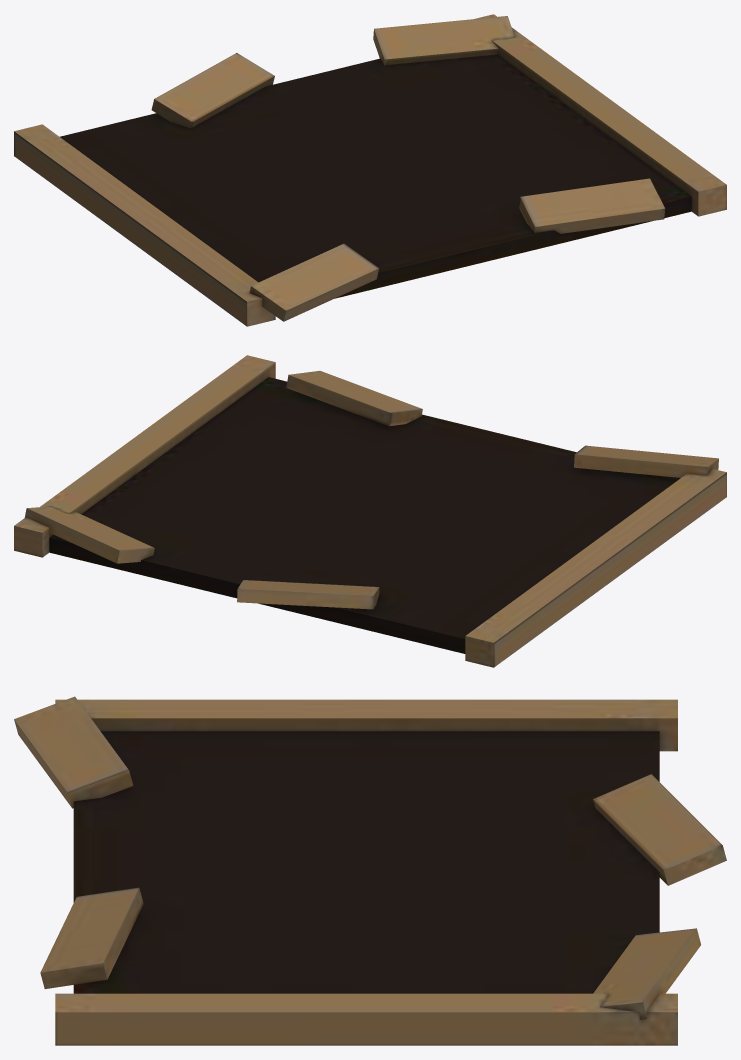
The model's file is tablones_rotos.glb.
The picture shows the model from 3 angles, top to bottom: view 1: azimuth 30°, elevation 25°; view 2: azimuth 150°, elevation 25°; view 3: azimuth 270°, elevation 25°; orthographic projection. The views are drawn at different scales.
Visible parts, largest first — view 1: tablones_rotos; view 2: tablones_rotos; view 3: tablones_rotos.
Boxes of the visible parts, <box> form: tablones_rotos: <box>14,14,726,326</box>; tablones_rotos: <box>14,355,726,667</box>; tablones_rotos: <box>14,696,726,1045</box>.
Size of the model in its own units: 2.03 by 0.1315 by 1.95.
1 material, 1 textured.
